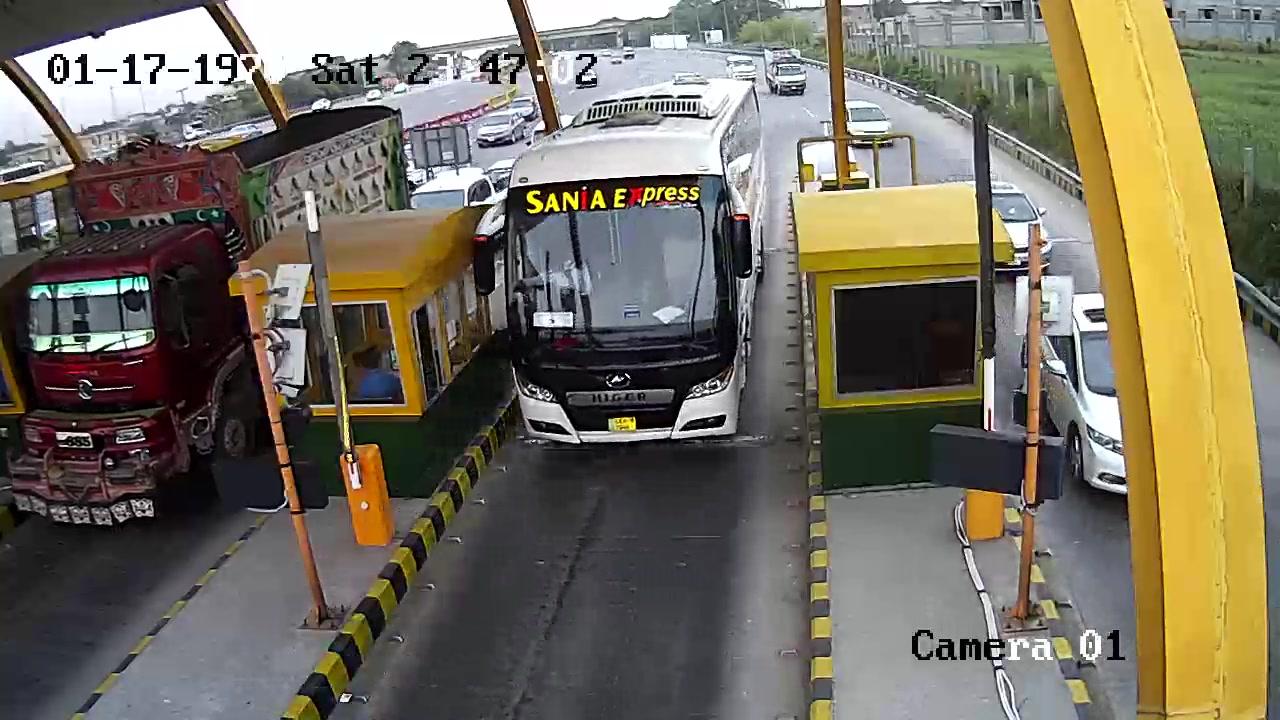F4: (498, 72, 778, 460)
